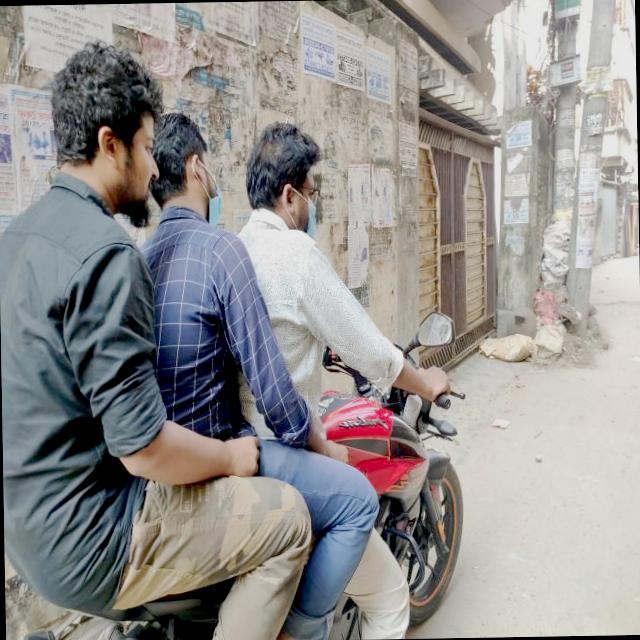motorcycle: (0, 303, 477, 640)
person: (0, 34, 195, 640), (102, 110, 296, 608), (217, 117, 385, 573)
